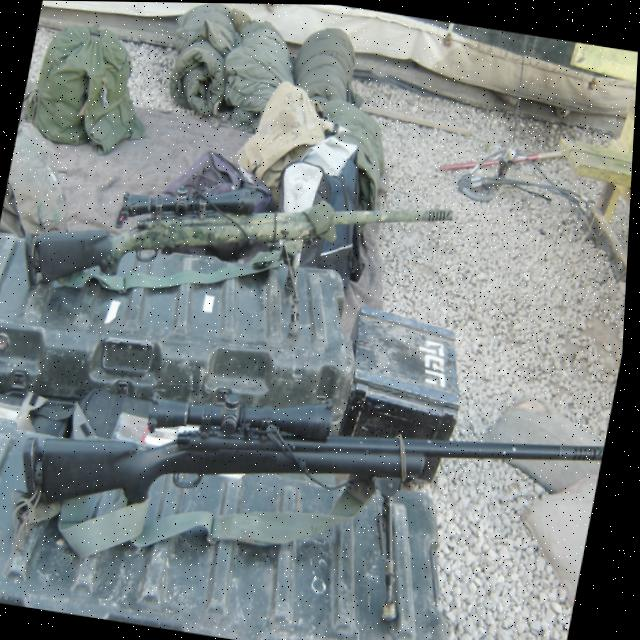firearm: (16, 356, 613, 589), (17, 141, 459, 345)
